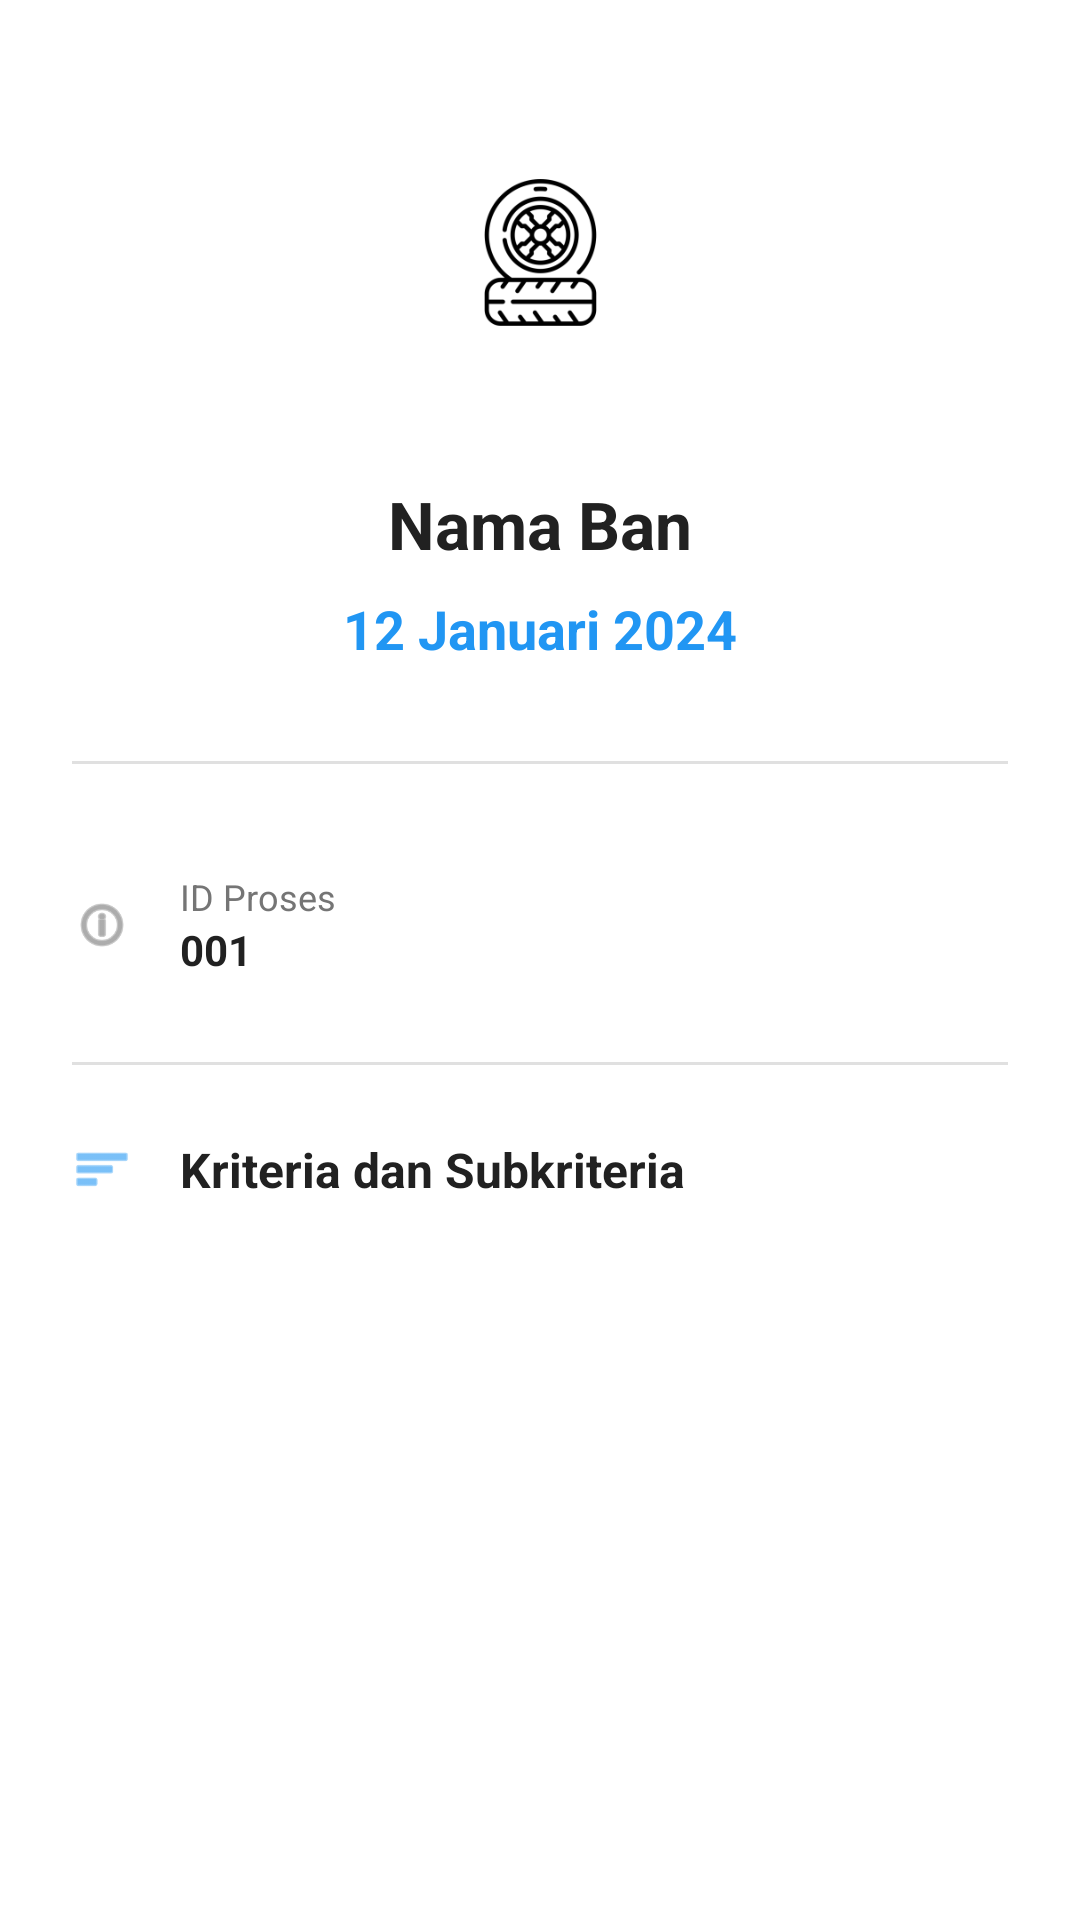

Icons on this 1080x1920 Android screen, each with its box as bbox(x1, y1, x2, y2):
info details: bbox(81, 904, 123, 946)
sort by size: bbox(76, 1152, 128, 1186)
tire: bbox(484, 179, 597, 326)
